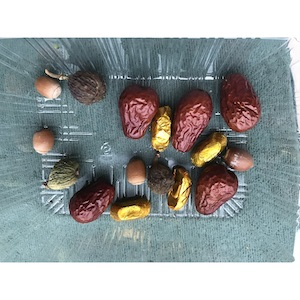date: (218, 68, 265, 137), (169, 88, 214, 154), (117, 81, 161, 142), (67, 177, 118, 225), (193, 168, 240, 218)
fig: (66, 68, 112, 109), (46, 159, 83, 194), (146, 159, 174, 196)
hazelnut: (32, 72, 65, 104), (220, 145, 254, 174), (27, 128, 57, 156), (124, 155, 148, 187)
